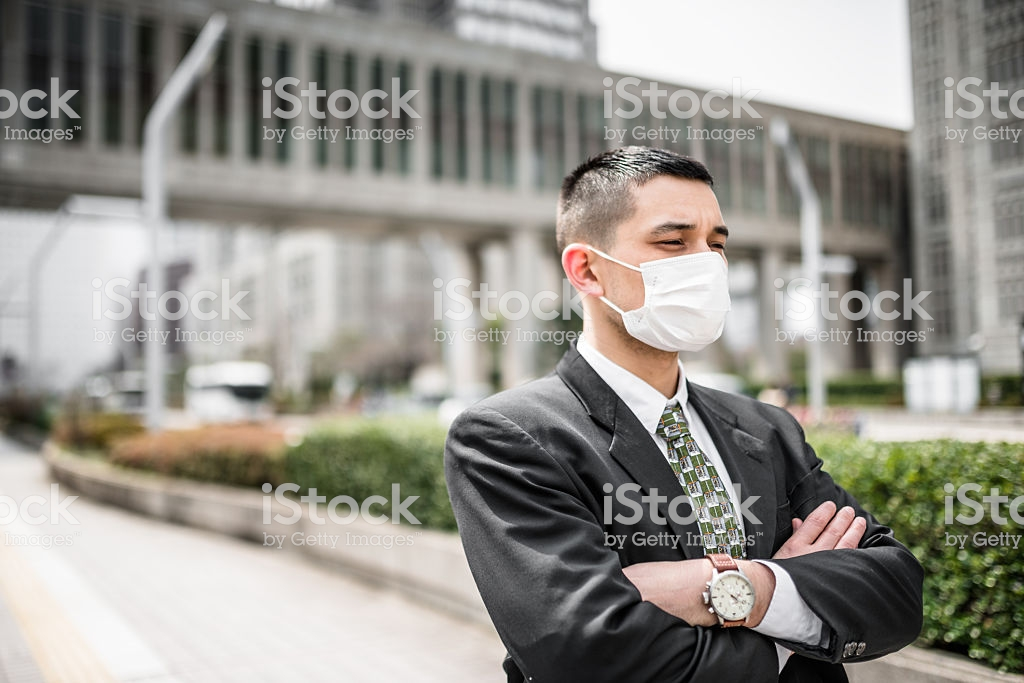mask: (619, 256, 732, 354)
